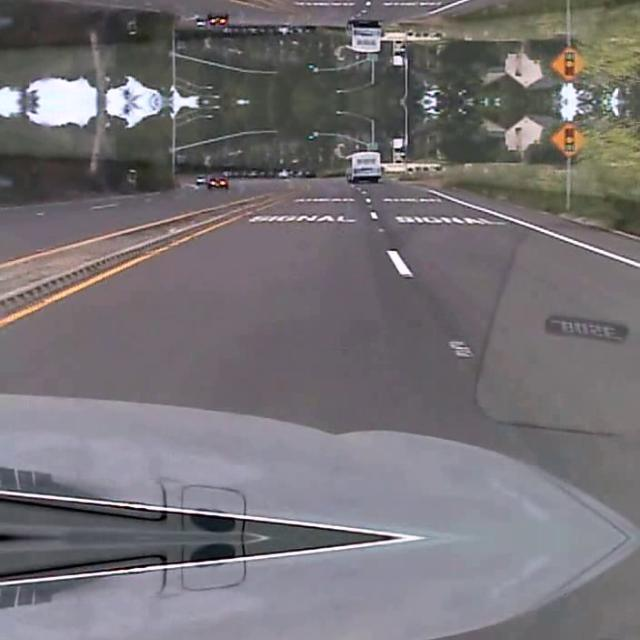signalAhead: (550, 120, 586, 156), (550, 46, 586, 82)
